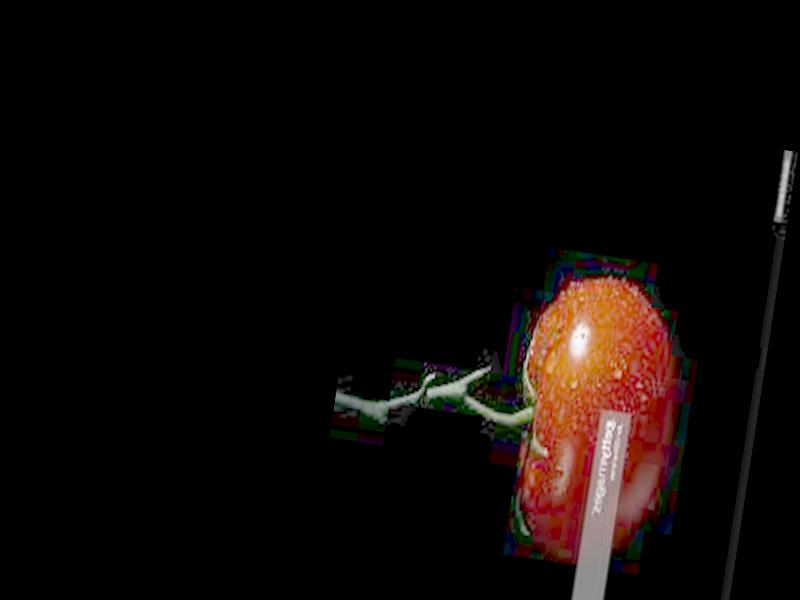Tomato: (502, 269, 687, 561)
